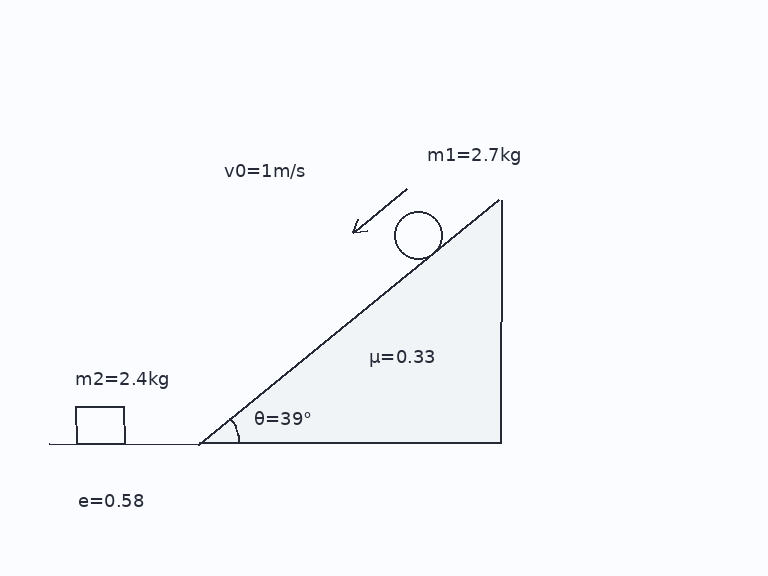ball: (392, 209, 444, 261)
block: (74, 405, 126, 445)
ramp: (197, 197, 502, 445)
